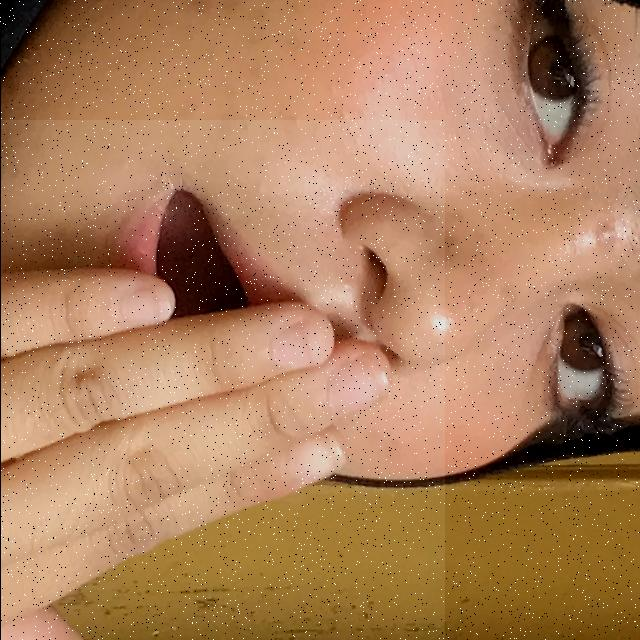ngantuk: (0, 120, 444, 640)
